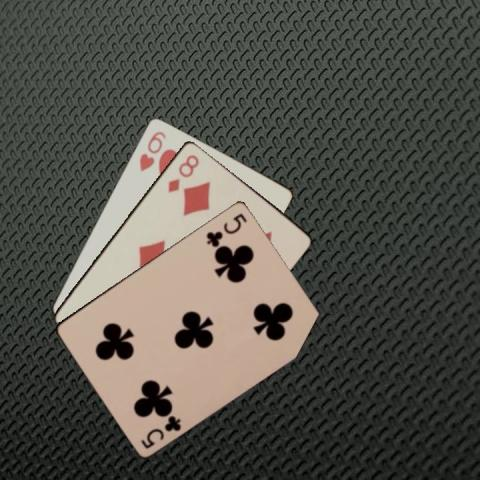5c: (202, 209, 248, 248), (137, 412, 183, 450)
6h: (136, 127, 167, 173)
8d: (164, 151, 200, 193)
